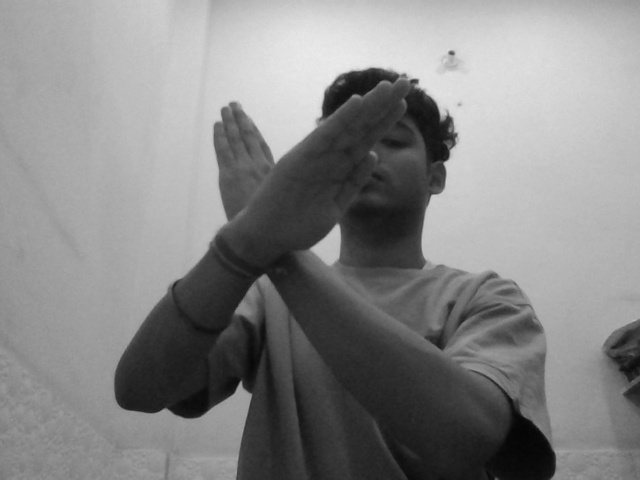No: (204, 72, 414, 312)
